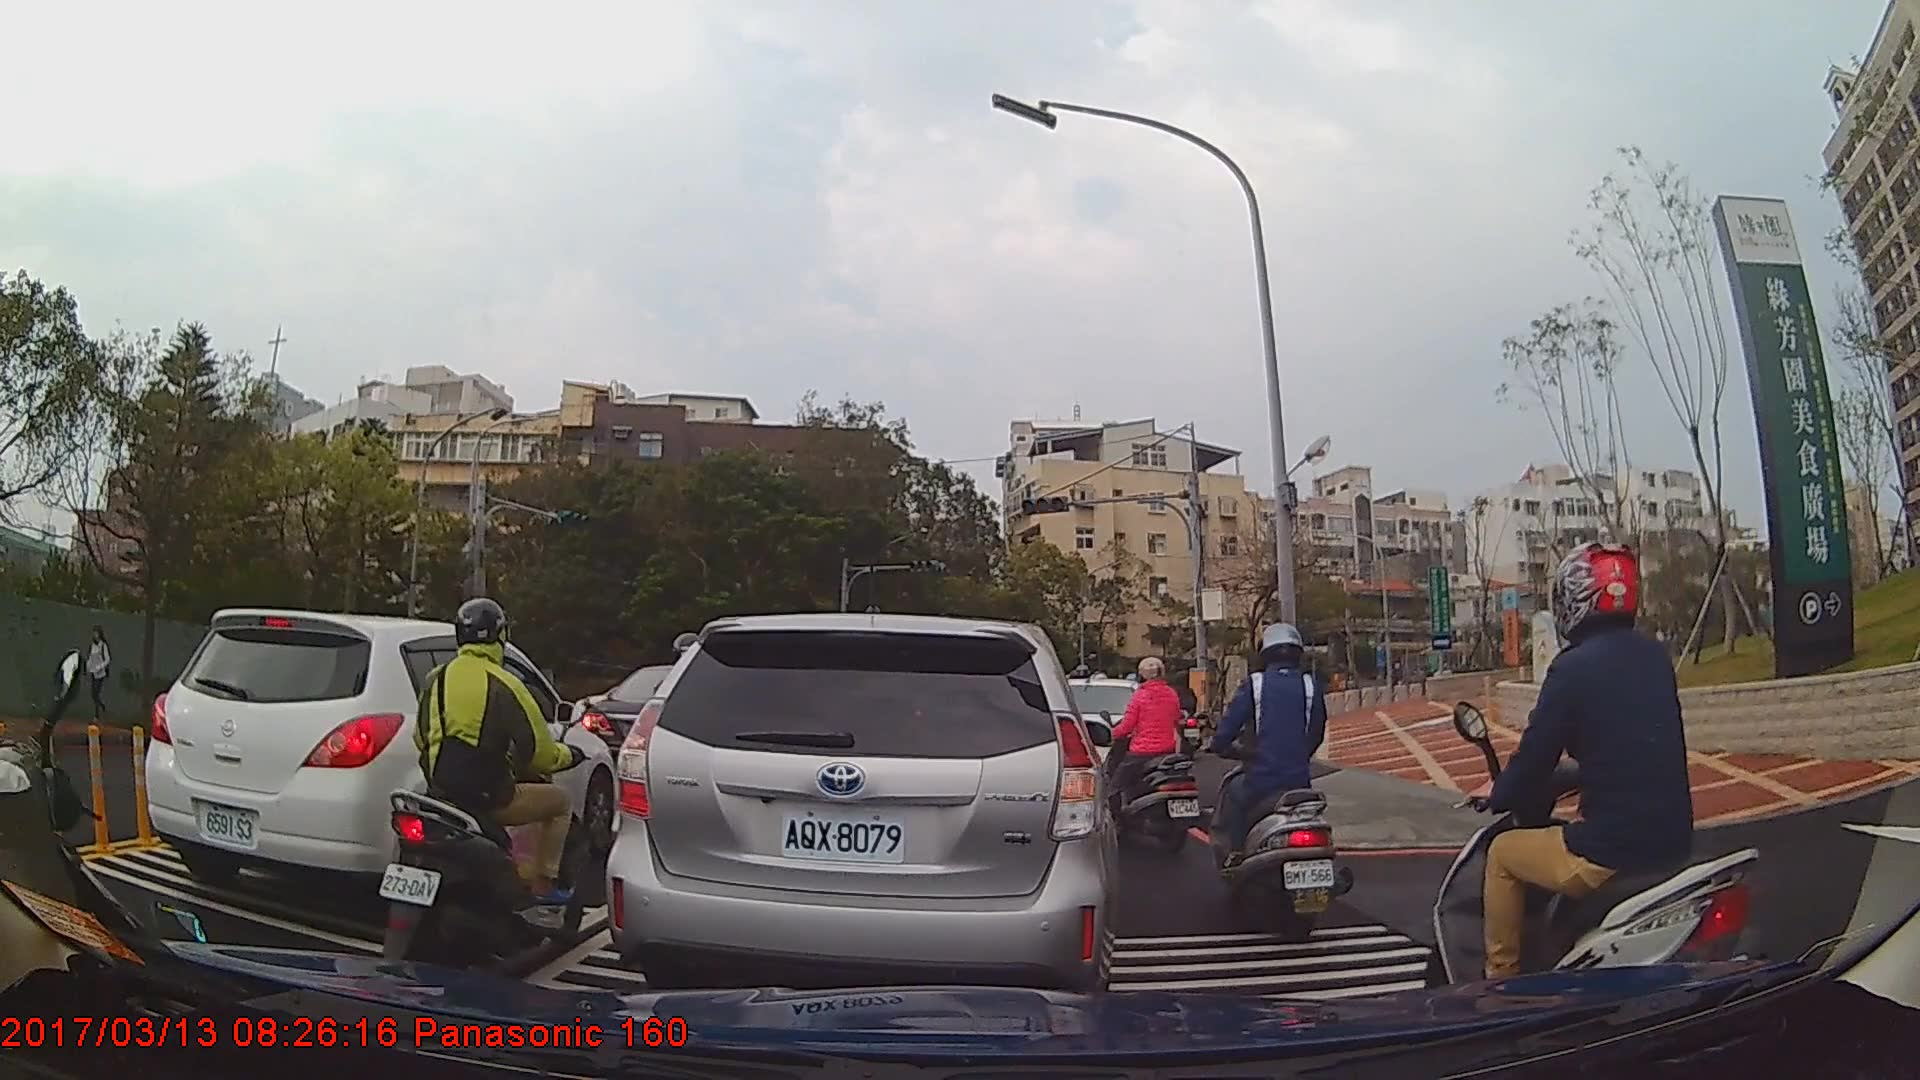pedestrian: (85, 626, 115, 722)
rider: (1436, 541, 1759, 1048), (381, 593, 600, 979), (1212, 616, 1345, 949), (1088, 653, 1197, 862), (1165, 668, 1207, 759)
vehicle: (606, 611, 1119, 1014), (144, 605, 615, 927)
